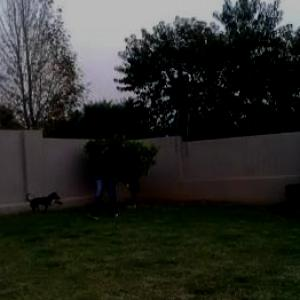follow: (93, 130, 121, 226)
